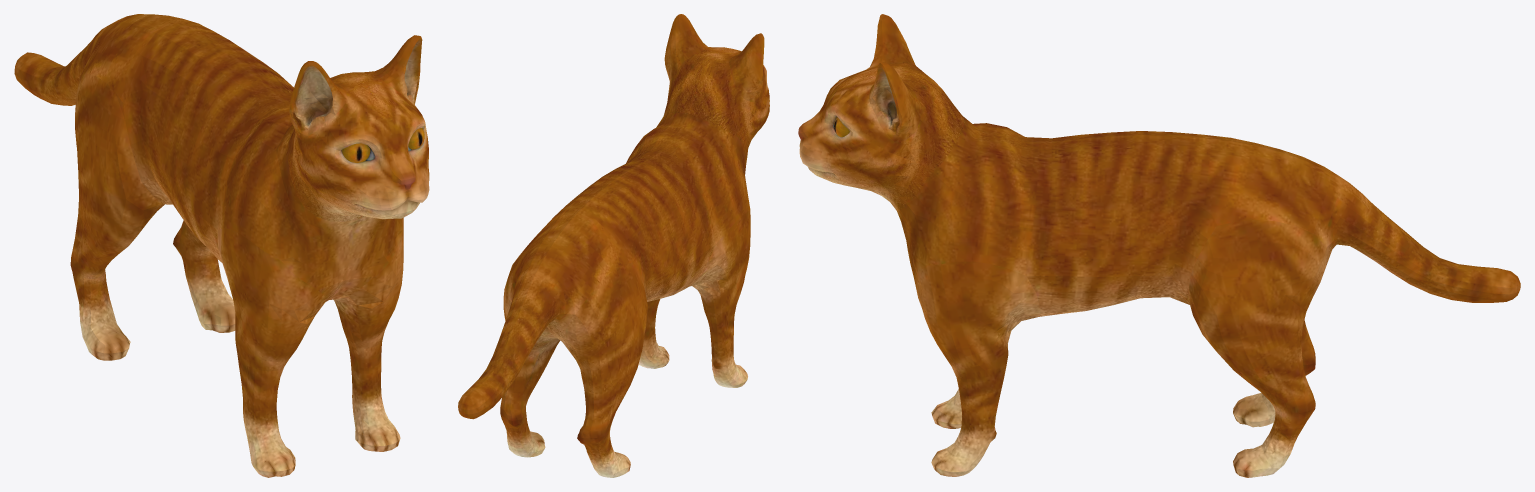
The model's file is chat.glb.
3 views of the same model, side by side, from view 1: azimuth 30°, elevation 25°; view 2: azimuth 150°, elevation 25°; view 3: azimuth 270°, elevation 25° (orthographic). The views are drawn at different scales.
Visible parts, largest first — view 1: Plane_Orange_Cat_0; view 2: Plane_Orange_Cat_0; view 3: Plane_Orange_Cat_0.
Boxes of the visible parts, left/top/right/bottom form: Plane_Orange_Cat_0: left=14, top=14, right=429, bottom=477; Plane_Orange_Cat_0: left=458, top=14, right=769, bottom=477; Plane_Orange_Cat_0: left=798, top=14, right=1520, bottom=477.
Bounding box in the file's own units: 0.1835 × 0.4795 × 0.77.
1 material, 1 textured.
